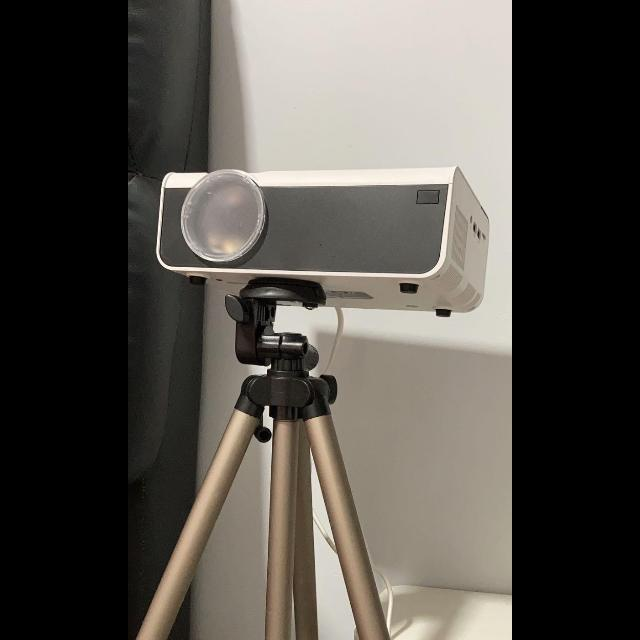Projector: (154, 169, 490, 319)
